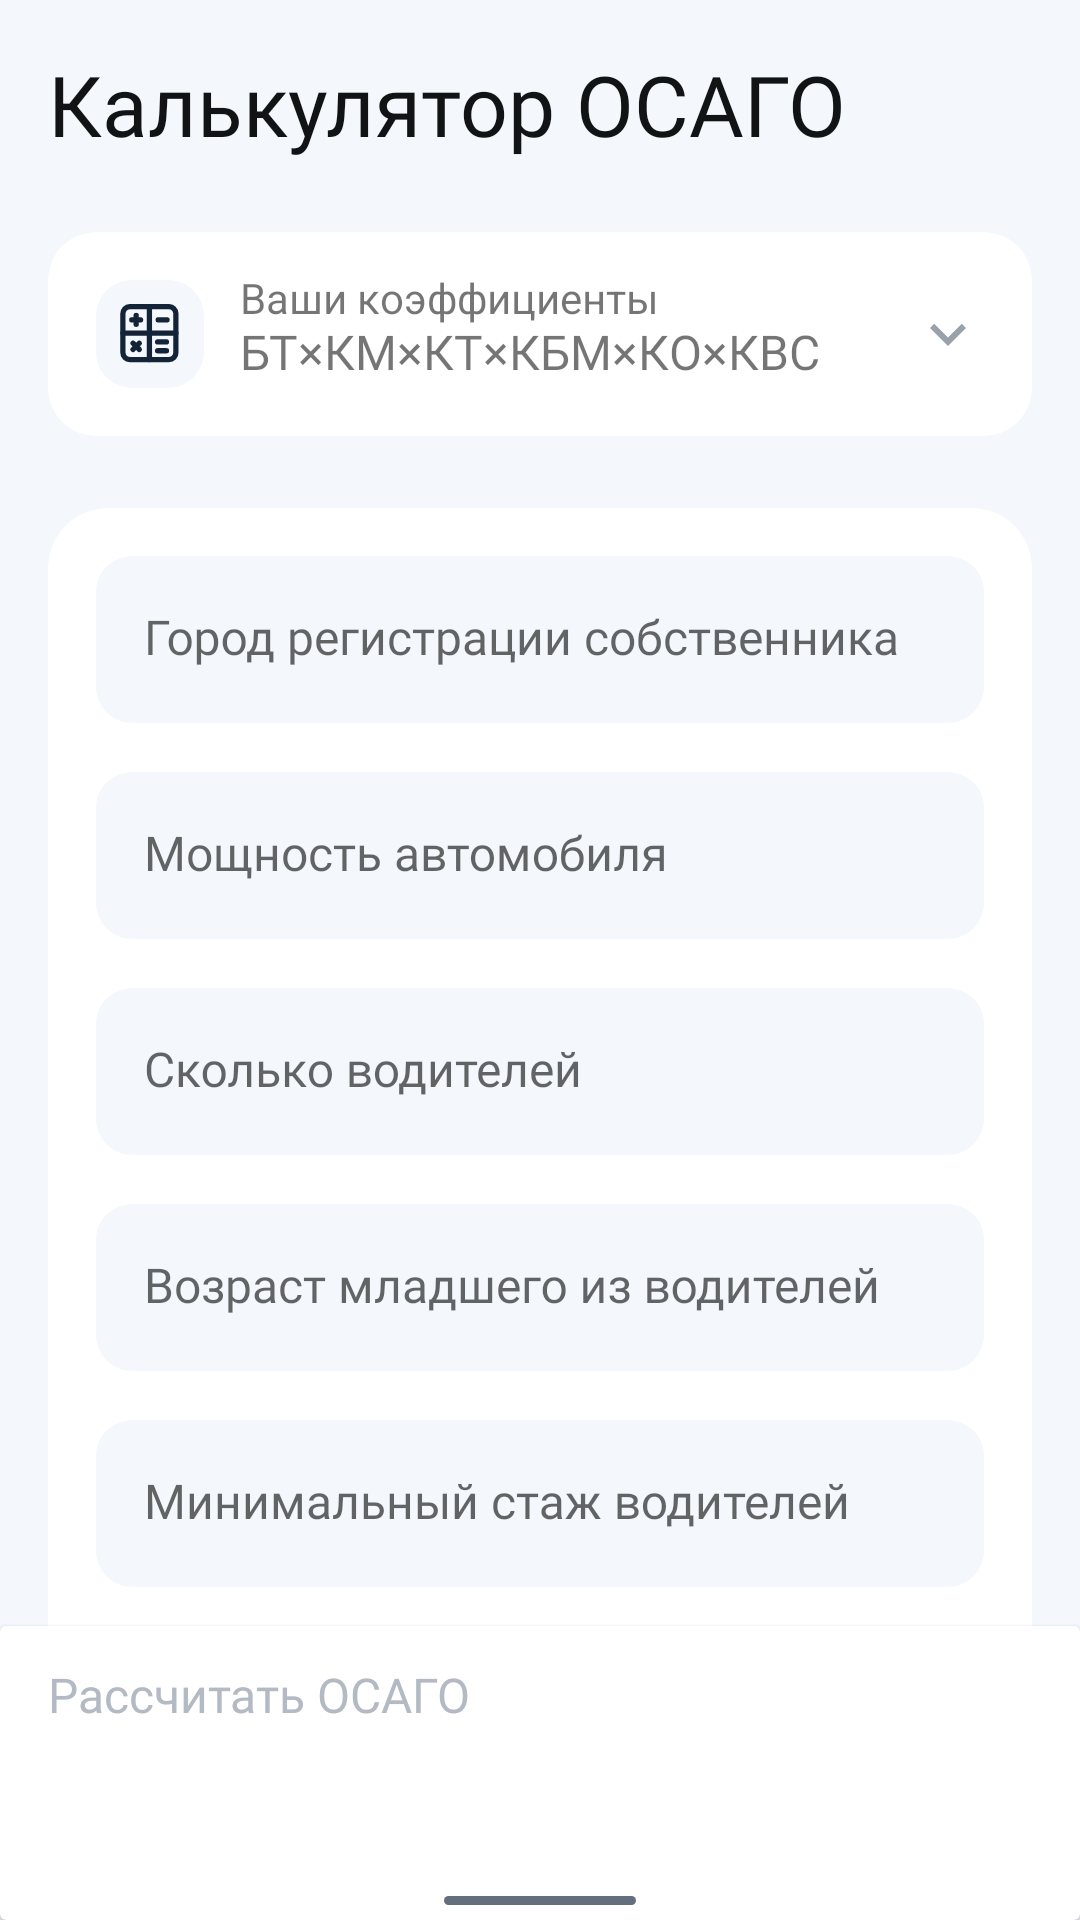

Locate icon controls on the screen. Image size 1080px x 1920px, boxes as (x1, y1, x2, y2).
expand more: (930, 324, 966, 346)
